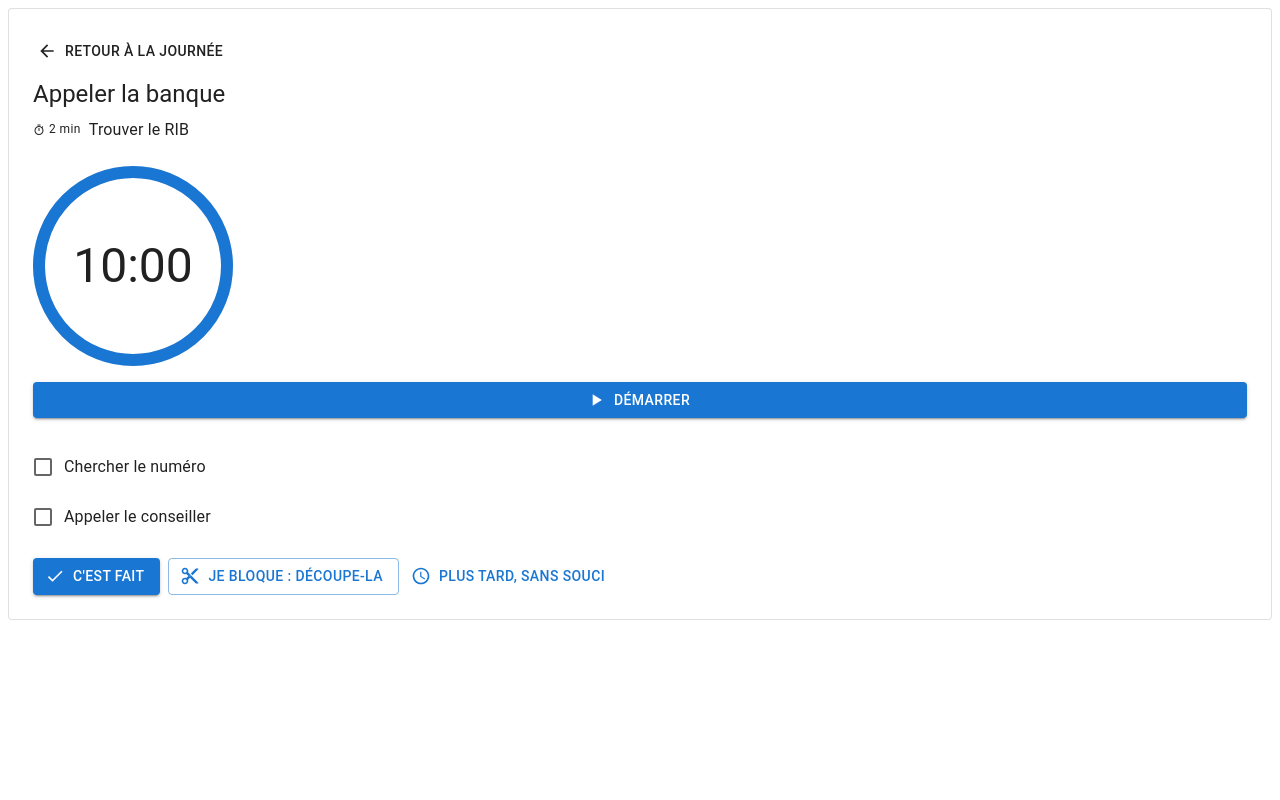
Test: TaskFocus (MAG-499) › the timer › pause: the time left stops
Click the button "Démarrer".
click(640, 400)  # box [33,382,1247,418]
Wait 60000 ms
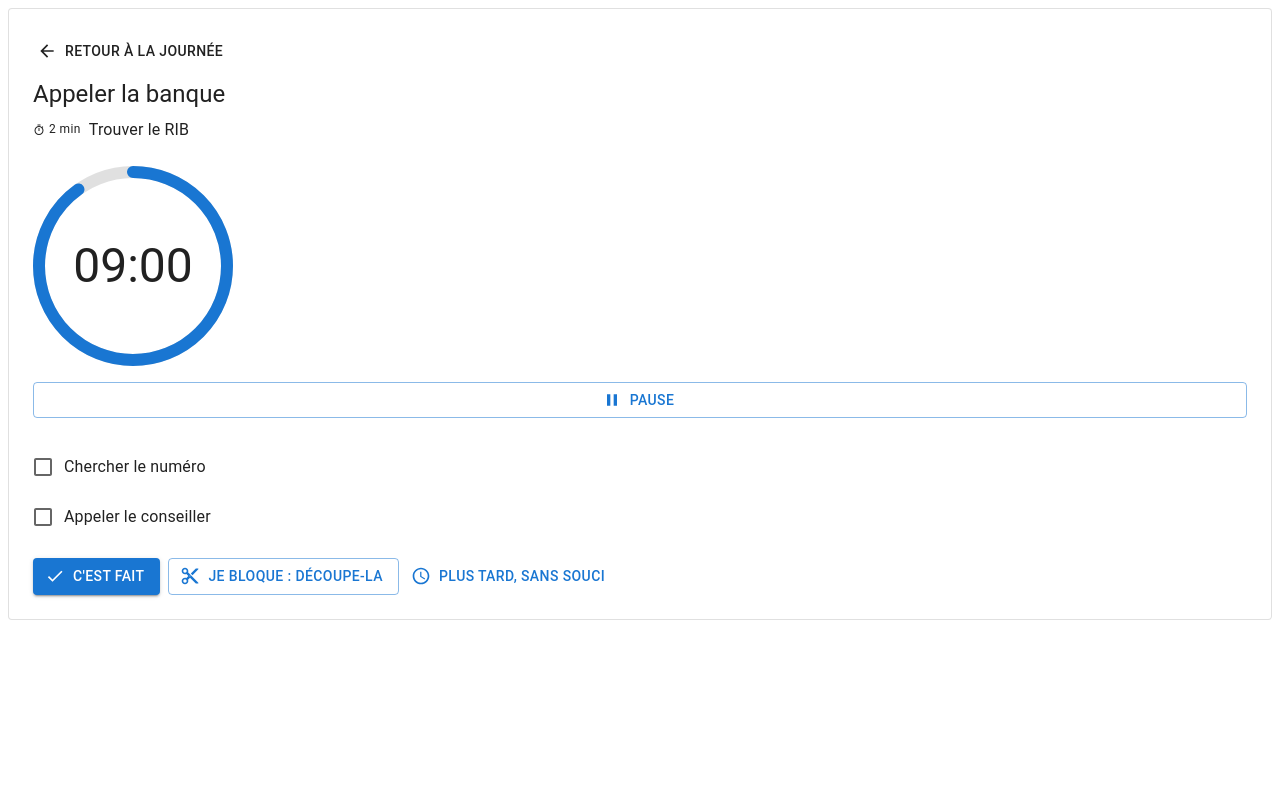
Click the button "Pause".
click(640, 400)  # box [33,382,1247,418]
Wait 120000 ms
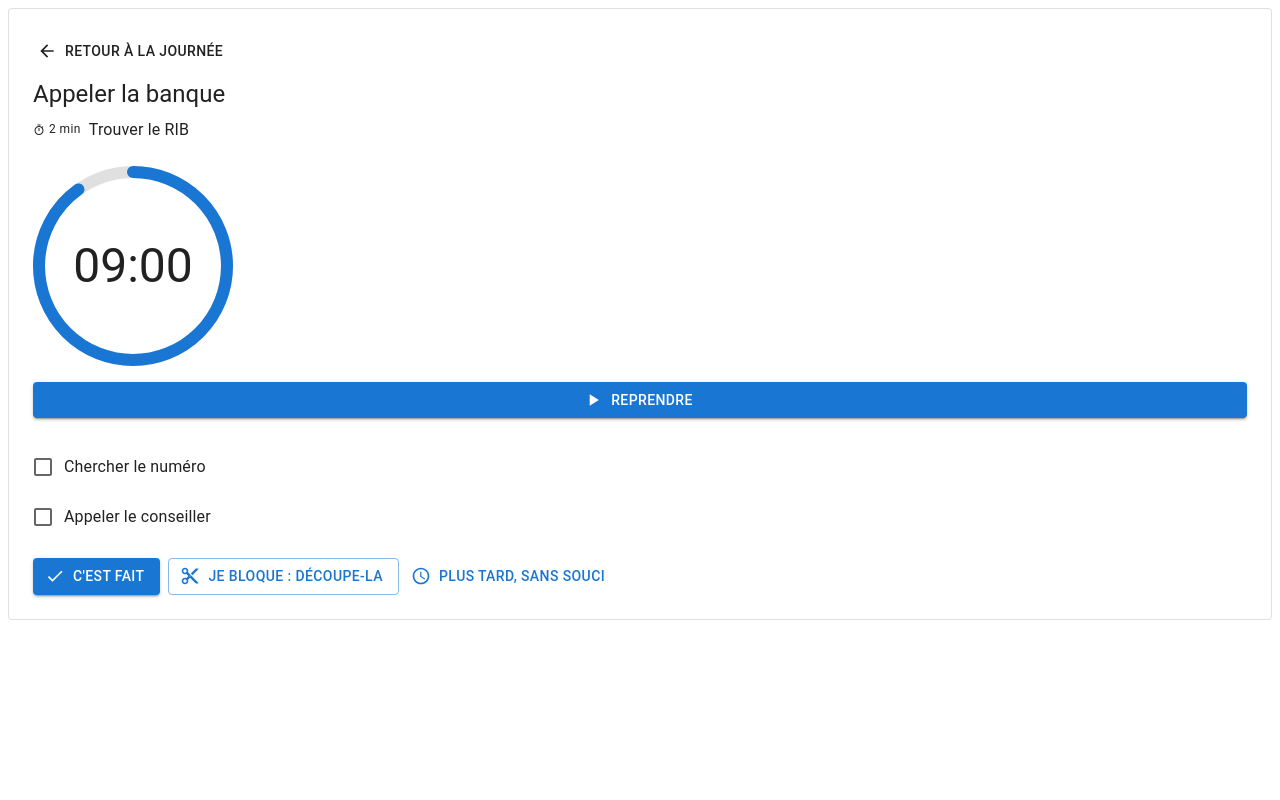
Result: the element named "Minuteur" reads "09:00" at [73,236,193,294]
Result: the button "Reprendre" is shown at [33,382,1247,418]
